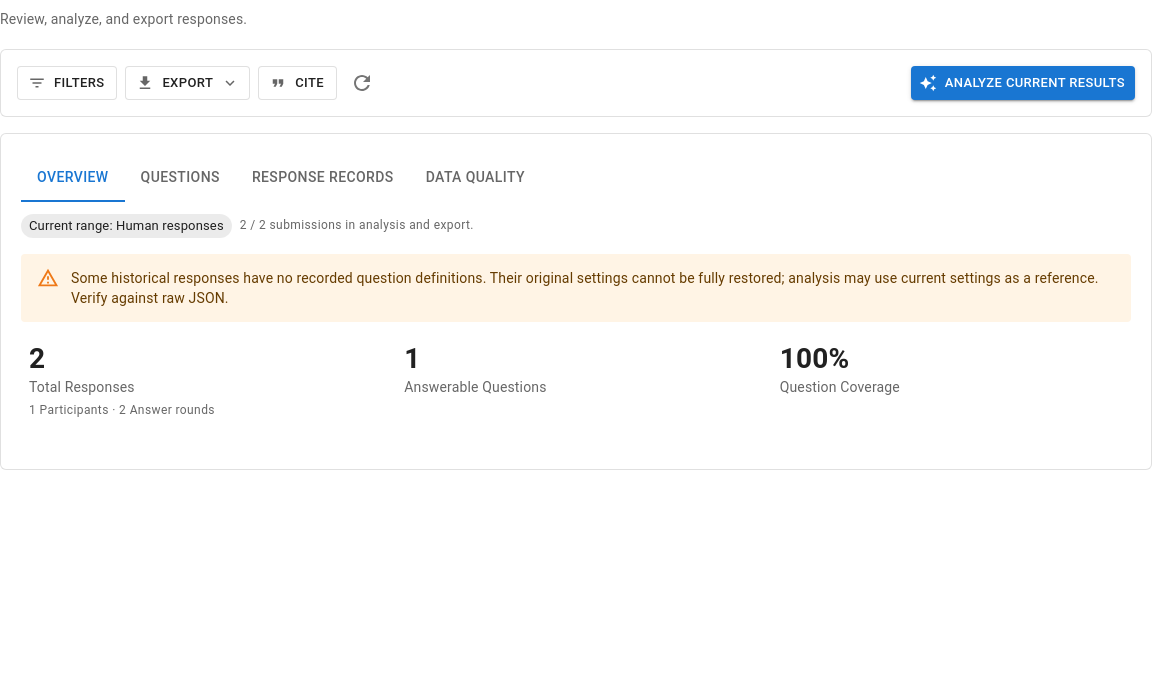
Test: platform admin can generate an AI analysis for a custom question and sees the saved one
Expected: the text "2 / 2 submissions in analysis and export." is shown, [240,216,474,236]
Click the tab "Questions".
click(180, 178)  # box [125,154,236,202]
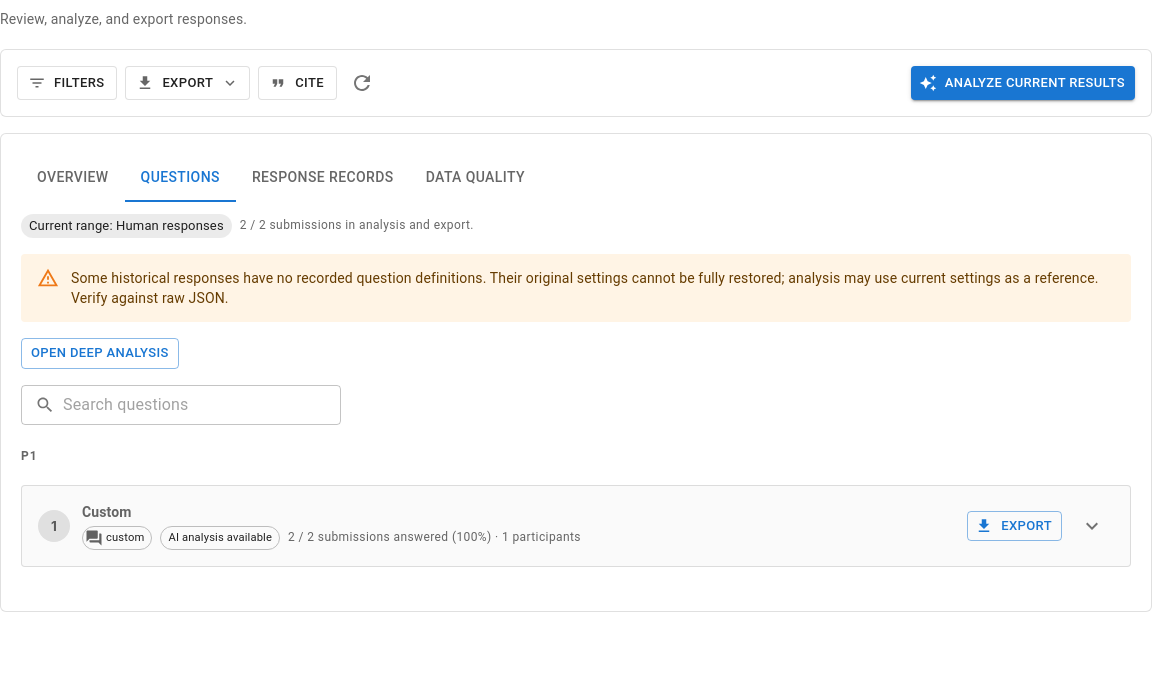
Click the button named "Expand analysis: q".
click(1092, 526)  # box [1070,504,1114,548]
(page scrolled)
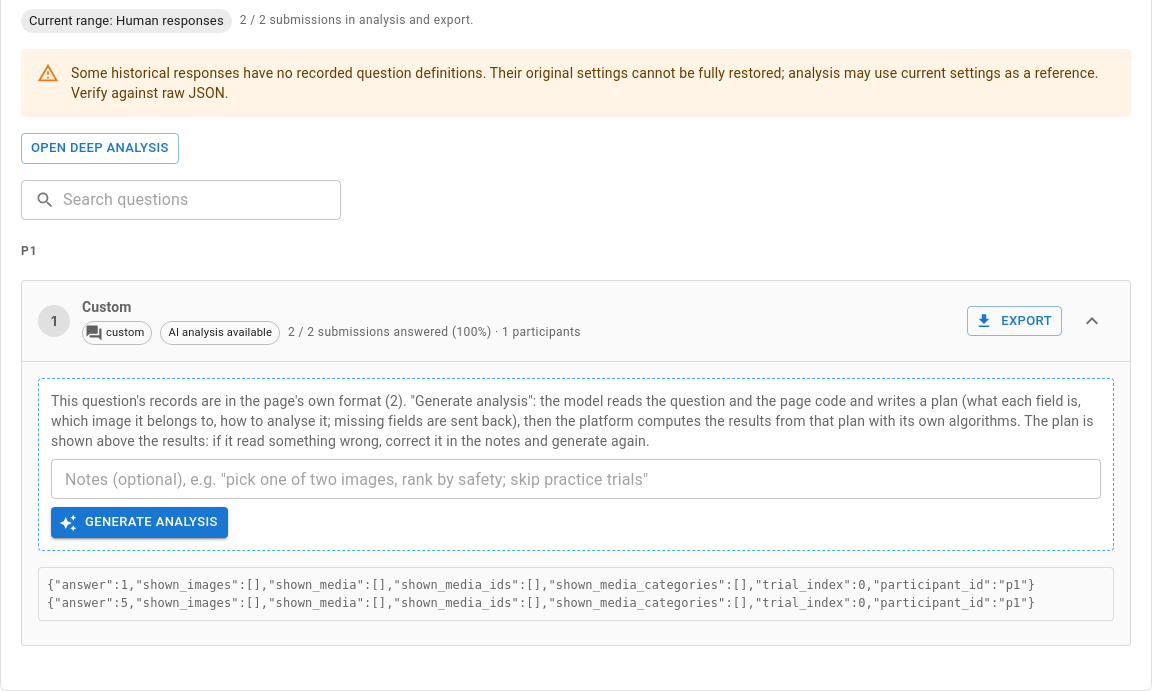
Expected: the button with test id "ai-analysis-generate" is shown, [51,507,228,538]
